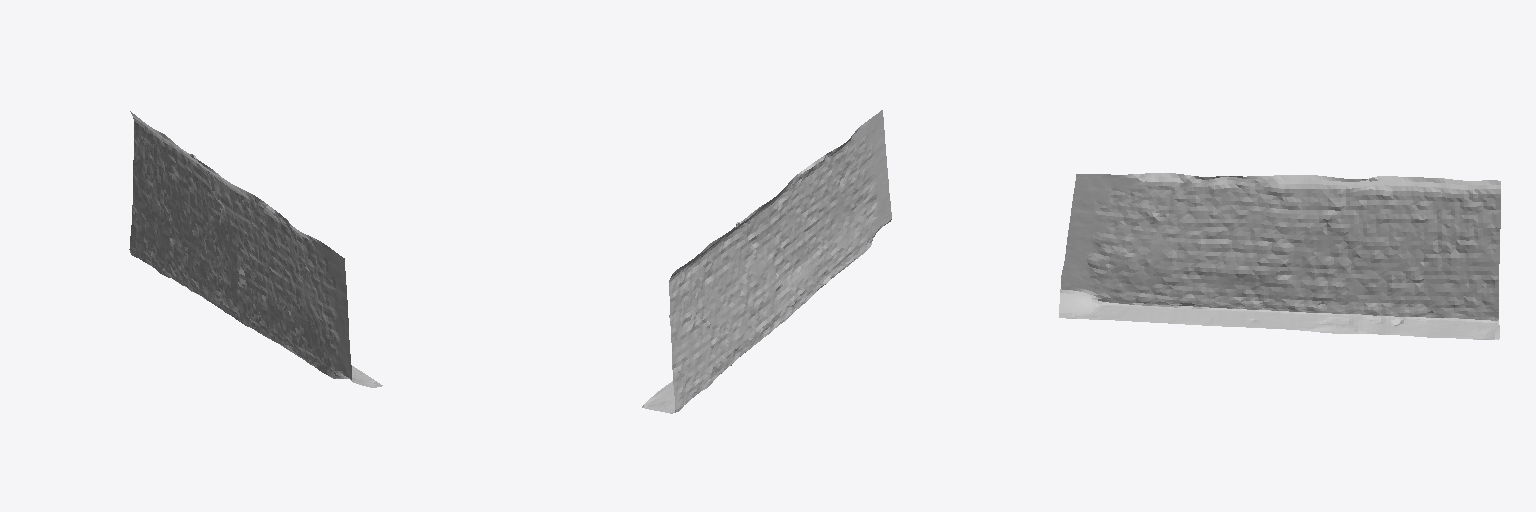
File: PrototypeBlocks.obj
3 views of the same model, side by side, from view 1: azimuth 30°, elevation 25°; view 2: azimuth 150°, elevation 25°; view 3: azimuth 270°, elevation 25° (orthographic).
Visible parts, largest first — view 1: Group55270; view 2: Group55270; view 3: Group55270.
Boxes of the visible parts, <box> form: Group55270: <box>129,111,382,387</box>; Group55270: <box>642,110,891,413</box>; Group55270: <box>1059,173,1500,339</box>.
Size of the model in its own units: 0.0736 by 0.2826 by 0.7502.